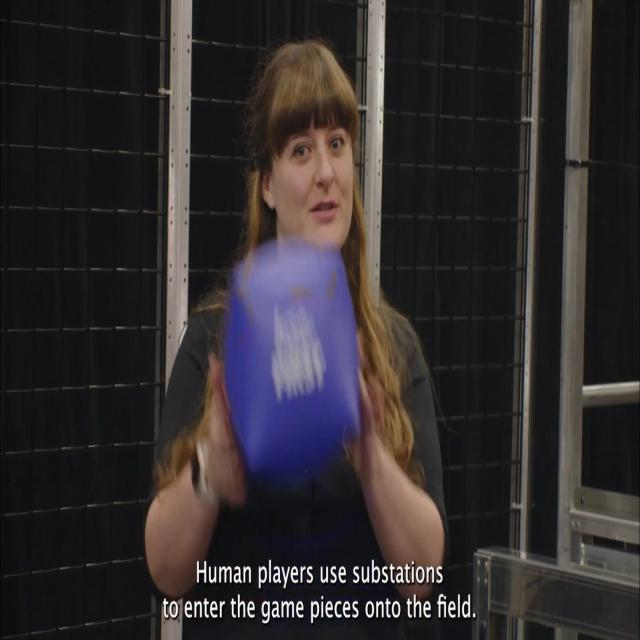frc_cube: (228, 247, 362, 473)
